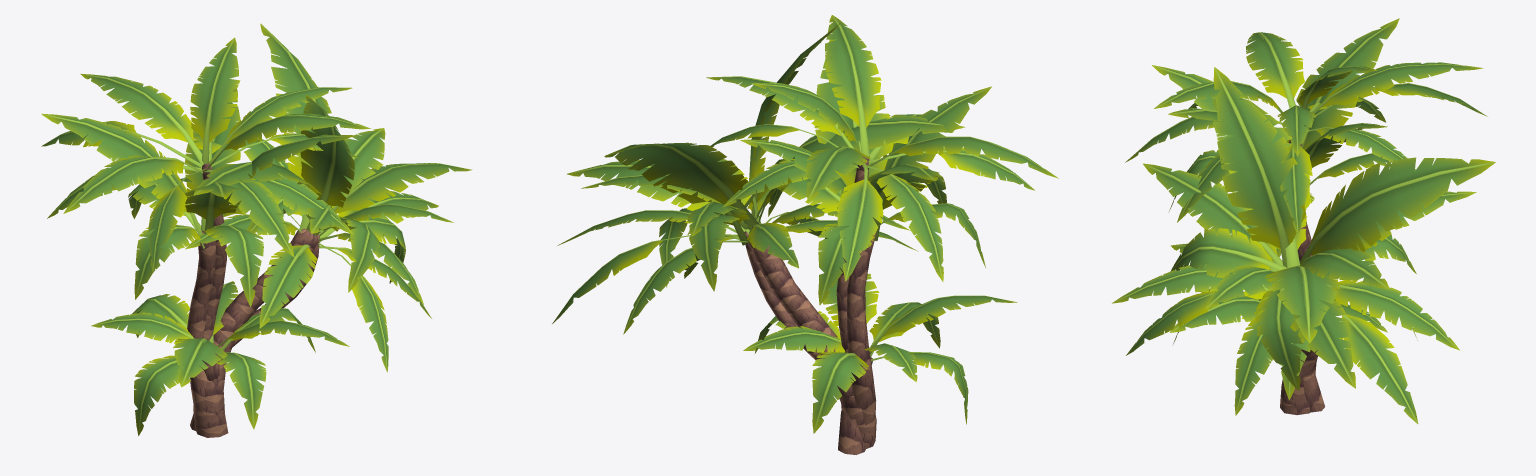
The model's file is palm-trees.glb.
3 renders of one model, left to right at view 1: azimuth 30°, elevation 25°; view 2: azimuth 150°, elevation 25°; view 3: azimuth 270°, elevation 25°, orthographic. The views are drawn at different scales.
Parts seen in each view (by area): view 1: PalmTree_1, PalmTree_2, PalmTree_3, PalmTree_5, PalmTree_4; view 2: PalmTree_1, PalmTree_2, PalmTree_3, PalmTree_5, PalmTree_4; view 3: PalmTree_2, PalmTree_4, PalmTree_1, PalmTree_3, PalmTree_5.
Part boxes in pixels (x1,y1,x2,y2): PalmTree_1: (41,37,371,340); PalmTree_2: (193,23,472,437); PalmTree_3: (41,88,356,412); PalmTree_5: (91,281,349,435); PalmTree_4: (180,137,454,372); PalmTree_1: (706,15,1058,392); PalmTree_2: (567,24,965,448); PalmTree_3: (740,39,991,425); PalmTree_5: (743,273,1017,454); PalmTree_4: (552,159,918,366); PalmTree_2: (1170,67,1495,414); PalmTree_4: (1112,163,1476,423); PalmTree_1: (1125,32,1487,260); PalmTree_3: (1152,18,1399,262); PalmTree_5: (1169,243,1417,412).
Size of the model in its own units: 6.92 by 5.28 by 5.24.
Materials: 2 (2 with a texture image).
